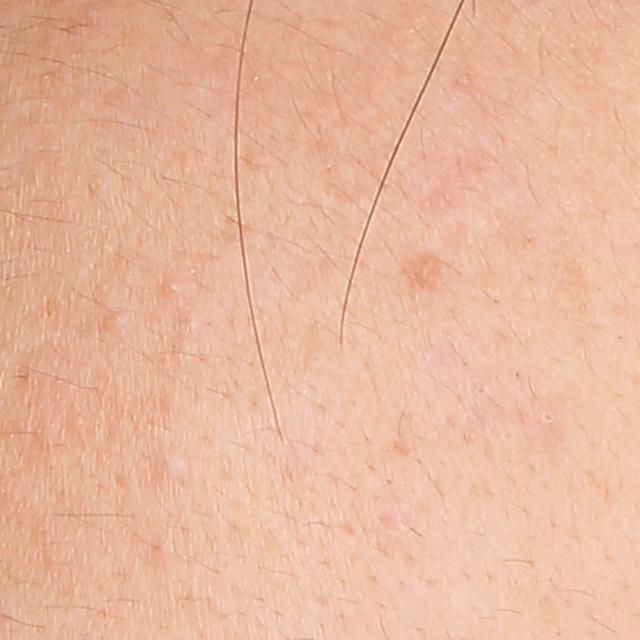comedo: (102, 311, 128, 335), (541, 409, 561, 427), (163, 279, 184, 296)
